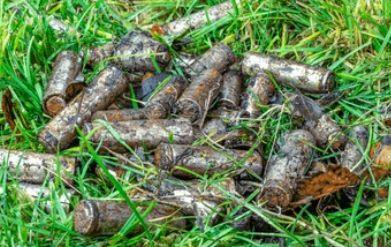battery: (73, 195, 182, 238), (258, 129, 313, 210), (240, 50, 339, 93), (88, 117, 194, 150), (74, 65, 131, 123), (155, 1, 238, 39), (160, 144, 250, 178), (173, 66, 225, 123), (1, 146, 75, 184), (42, 51, 83, 115), (181, 44, 238, 83), (141, 75, 189, 119), (239, 71, 276, 121), (311, 112, 348, 151)
